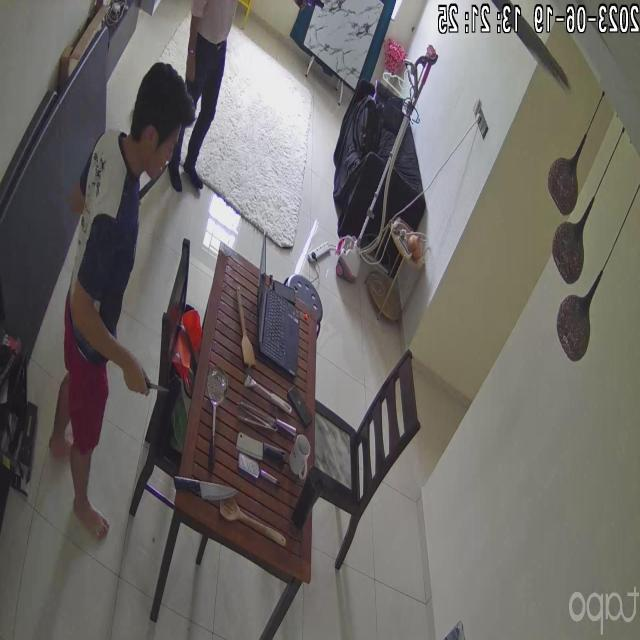Knife: (166, 466, 242, 513), (139, 367, 173, 405)
